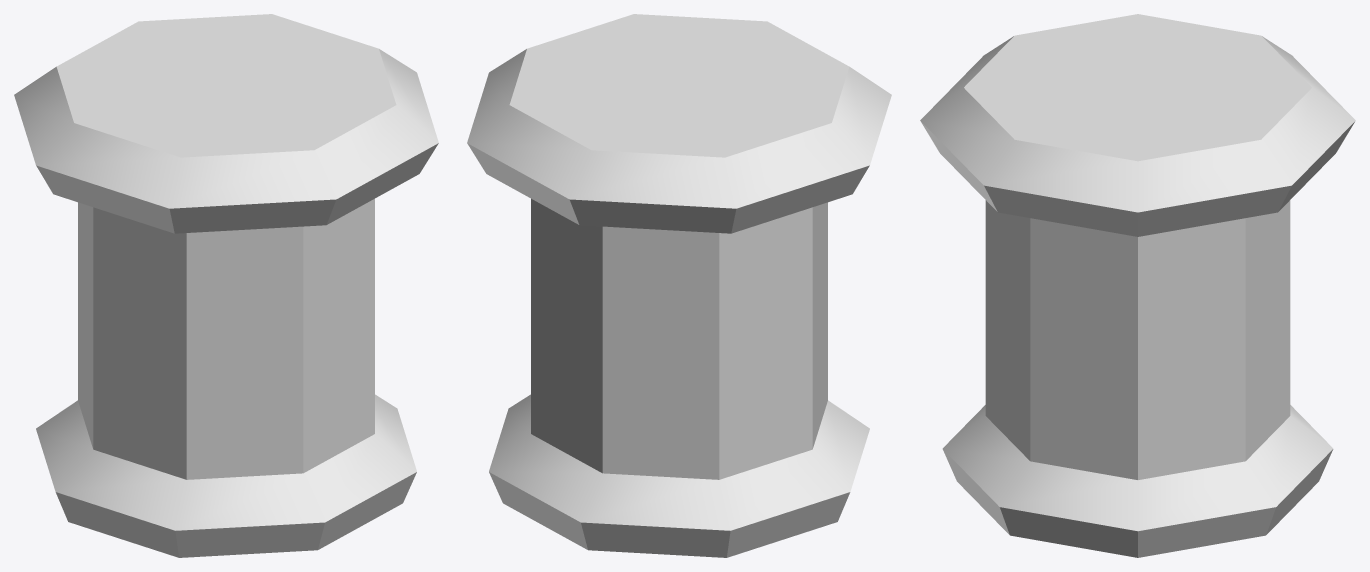
Rendered from lamp.glb.
The picture shows the model from 3 angles, left to right: view 1: azimuth 30°, elevation 25°; view 2: azimuth 150°, elevation 25°; view 3: azimuth 270°, elevation 25°; orthographic projection.
Parts seen in each view (by area): view 1: Circle; view 2: Circle; view 3: Circle.
Part boxes in pixels (bbox=[...]): Circle: bbox=[14, 14, 438, 557]; Circle: bbox=[467, 14, 891, 557]; Circle: bbox=[920, 14, 1355, 557].
Bounding box in the file's own units: 2.41 × 2.4 × 2.41.
Materials: 1 (1 with a texture image).
